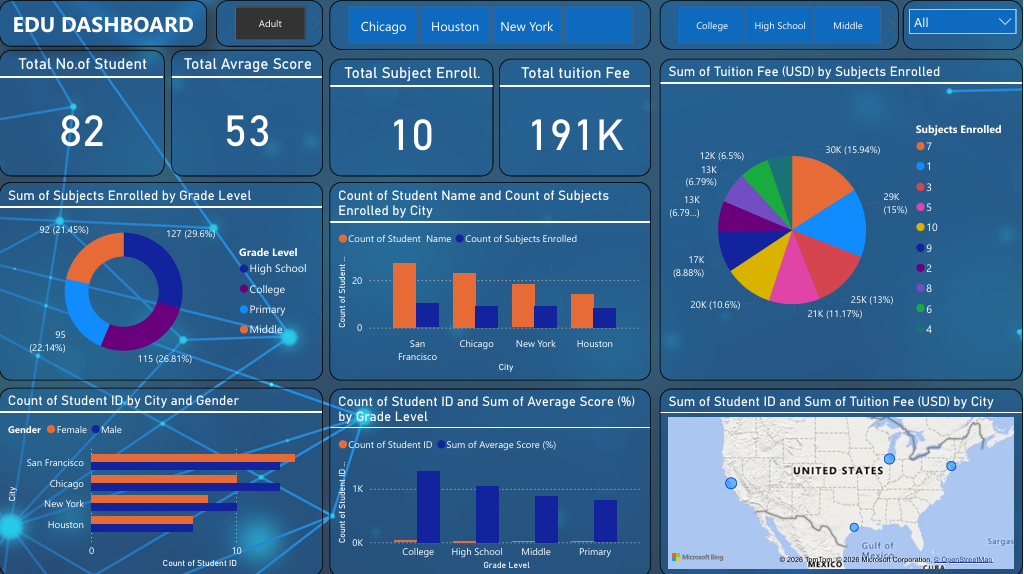

What the dashboard file says about the page in this screenshot:
{"tool":"powerbi","page":{"name":"Page 1","canvas":[1280,720],"ordinal":0},"visuals":[{"type":"card","title":"Total No.of Student","fields":{"Values":["Count(Education_Dataset_200.Student Name)"]},"box":[0,62.2,206.6,157.9],"z":0},{"type":"card","title":"Total Avrage Score","fields":{"Values":["Count(Education_Dataset_200.Average Score (%))"]},"box":[215,62.2,189.8,157.9],"z":1000},{"type":"card","title":"Total Subject Enroll.","fields":{"Values":["Count(Education_Dataset_200.Subjects Enrolled)"]},"box":[412.9,72.9,205.1,147.3],"z":2000},{"type":"card","title":"Total tuition Fee","fields":{"Values":["Sum(Education_Dataset_200.Tuition Fee (USD))"]},"box":[624.9,72.9,189.9,147.3],"z":3000},{"type":"clusteredColumnChart","fields":{"Category":["Education_Dataset_200.City"],"Y":["Count(Education_Dataset_200.Student  Name)","Count(Education_Dataset_200.Subjects Enrolled)"]},"box":[413.2,226.8,401.5,248.6],"z":4000},{"type":"pieChart","fields":{"Y":["Sum(Education_Dataset_200.Tuition Fee (USD))"],"Category":["Education_Dataset_200.Subjects Enrolled"]},"box":[825.8,72.9,454.2,401.9],"z":5000},{"type":"donutChart","fields":{"Category":["Education_Dataset_200.Grade Level"],"Y":["Sum(Education_Dataset_200.Subjects Enrolled)"]},"box":[0,226.8,404.8,248.6],"z":6000},{"type":"clusteredBarChart","fields":{"Category":["Education_Dataset_200.City"],"Series":["Education_Dataset_200.Gender"],"Y":["Count(Education_Dataset_200.Student ID)"]},"box":[0,484.5,404.6,235.4],"z":7000},{"type":"clusteredColumnChart","fields":{"Y":["CountNonNull(Education_Dataset_200.Student ID)","Sum(Education_Dataset_200.Average Score (%))"],"Category":["Education_Dataset_200.Grade Level"]},"box":[413.2,485.5,401.5,235.2],"z":8000},{"type":"map","fields":{"Category":["Education_Dataset_200.City"],"Size":["Sum(Education_Dataset_200.Student ID)"]},"box":[826,485,454,235],"z":9000},{"type":"slicer","fields":{"Values":["Education_Dataset_200.City"]},"box":[413.2,0,401.5,62.2],"z":10000},{"type":"slicer","fields":{"Values":["Education_Dataset_200.Grade Level"]},"box":[826.5,0,299,62.2],"z":11000},{"type":"slicer","fields":{"Values":["Education_Dataset_200.Gender"]},"box":[1130.5,0,149.5,62.2],"z":12000},{"type":"textbox","box":[0,0,260.1,57.8],"z":13000},{"type":"slicer","fields":{"Values":["Education_Dataset_200.AgeCategory"]},"box":[270.9,0,133.6,57.8],"z":14000}]}

Visuals, with their boxes in screenshot pixels (x1, y1, x2, y2), scaled from the page's 1280x720 canvas onto the 1024x574 screenshot:
"Total No.of Student" card: crop(0, 50, 165, 175)
"Total Avrage Score" card: crop(172, 50, 324, 175)
"Total Subject Enroll." card: crop(330, 58, 494, 176)
"Total tuition Fee" card: crop(500, 58, 652, 176)
clusteredColumnChart - Education_Dataset_200.City x Count(Education_Dataset_200.Student  Name): crop(331, 181, 652, 379)
pieChart - Sum(Education_Dataset_200.Tuition Fee (USD)) x Education_Dataset_200.Subjects Enrolled: crop(661, 58, 1023, 379)
donutChart - Education_Dataset_200.Grade Level x Sum(Education_Dataset_200.Subjects Enrolled): crop(0, 181, 324, 379)
clusteredBarChart - Education_Dataset_200.City x Education_Dataset_200.Gender: crop(0, 386, 324, 573)
clusteredColumnChart - CountNonNull(Education_Dataset_200.Student ID) x Sum(Education_Dataset_200.Average Score (%)): crop(331, 387, 652, 573)
map - Education_Dataset_200.City x Sum(Education_Dataset_200.Student ID): crop(661, 387, 1023, 573)
slicer - Education_Dataset_200.City: crop(331, 0, 652, 50)
slicer - Education_Dataset_200.Grade Level: crop(661, 0, 900, 50)
slicer - Education_Dataset_200.Gender: crop(904, 0, 1023, 50)
textbox: crop(0, 0, 208, 46)
slicer - Education_Dataset_200.AgeCategory: crop(217, 0, 324, 46)
